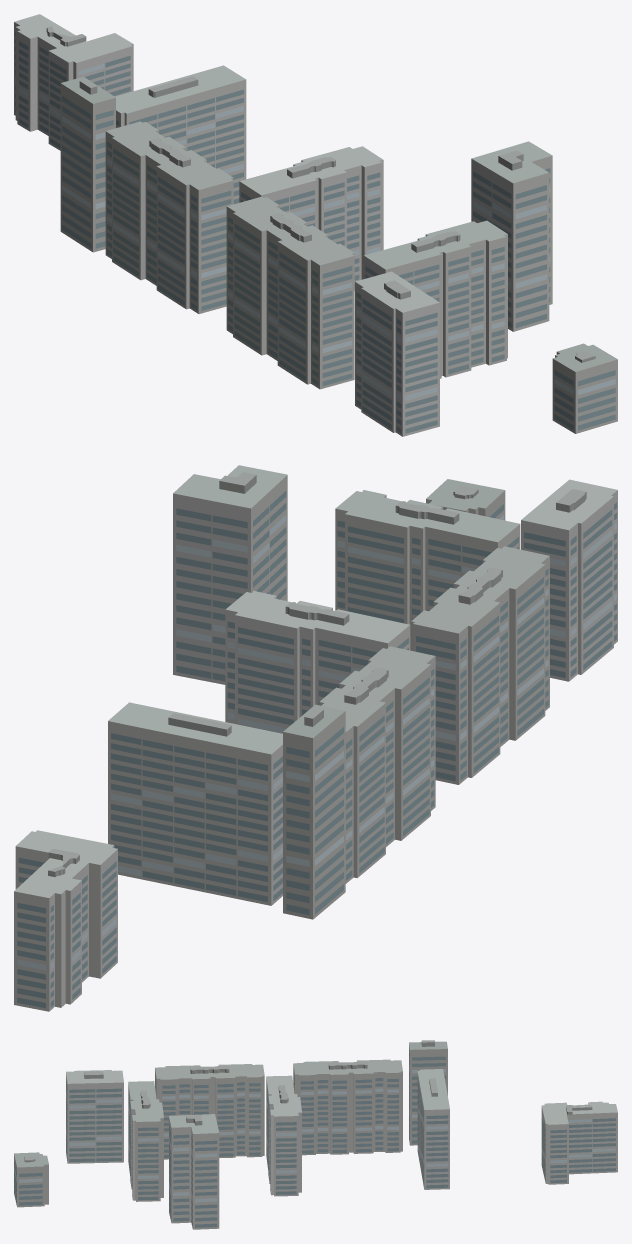
The model's file is apt-a13120403.glb.
The picture shows the model from 3 angles, top to bottom: view 1: azimuth 30°, elevation 25°; view 2: azimuth 150°, elevation 25°; view 3: azimuth 270°, elevation 25°; orthographic projection. The views are drawn at different scales.
Visible parts, largest first — view 1: apt-a13120403; view 2: apt-a13120403; view 3: apt-a13120403.
Part boxes in pixels (left/top/right/bottom): apt-a13120403: left=14, top=14, right=617, bottom=436; apt-a13120403: left=14, top=465, right=617, bottom=1011; apt-a13120403: left=14, top=1040, right=617, bottom=1229.
Bounding box in the file's own units: 94.99 × 47.81 × 262.
